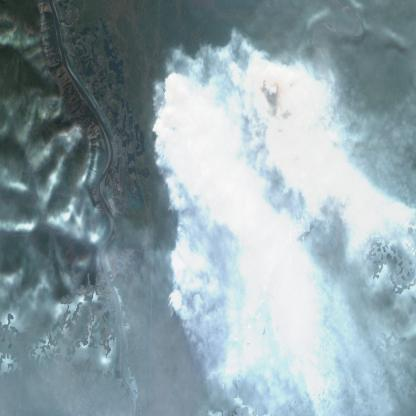fire: (149, 62, 308, 392)
